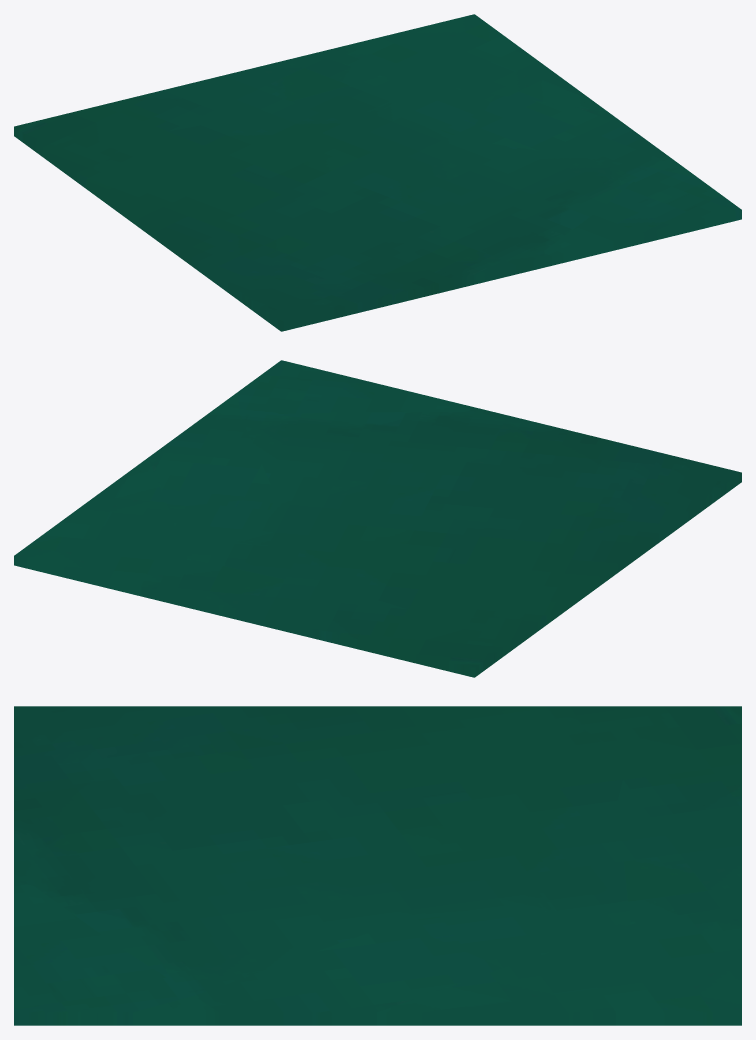
Rendered from z16-10483-25321-h0-yup-uvflip-v3-world.glb.
3 views of the same model, one above another, from view 1: azimuth 30°, elevation 25°; view 2: azimuth 150°, elevation 25°; view 3: azimuth 270°, elevation 25° (orthographic). The views are drawn at different scales.
Bounding box in the file's own units: 483 × 9.6 × 485.
Materials: 1 (1 with a texture image).
